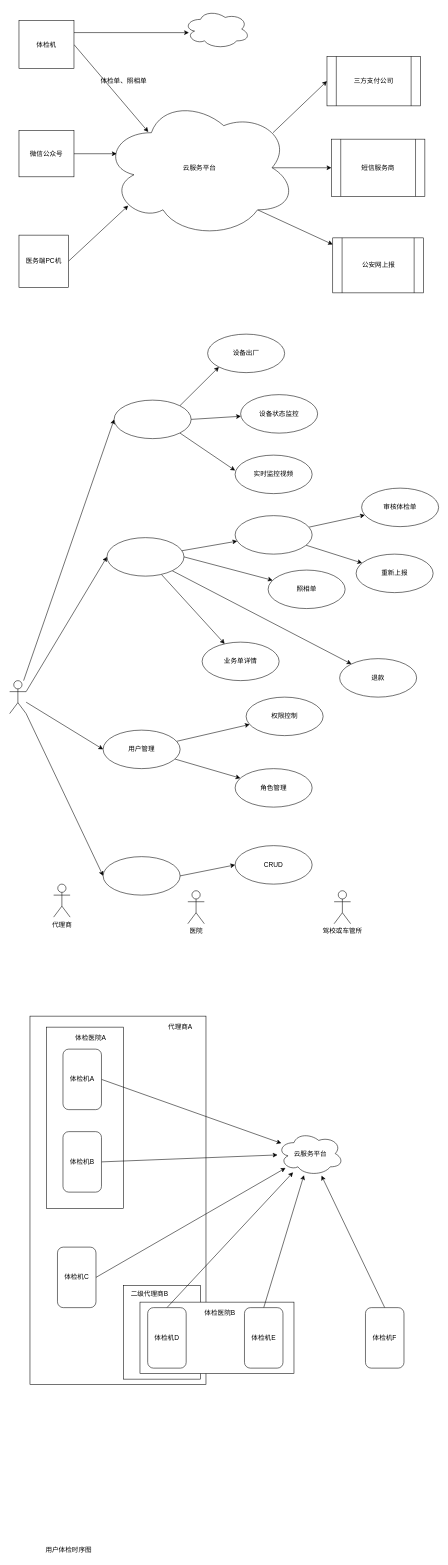
This 448x1565 diagram has some shape labels left out. The shapes that lost their labels are listed below. From the top down, each one's centre as x and y in pixels, then its label:
At point 216,29: "阿里云视频服务、对象存储".
At point 152,419: "设备管理".
At point 273,534: "体检单".
At point 145,556: "业务单管理".
At point 17,697: "公司".
At point 141,875: "商户管理".
